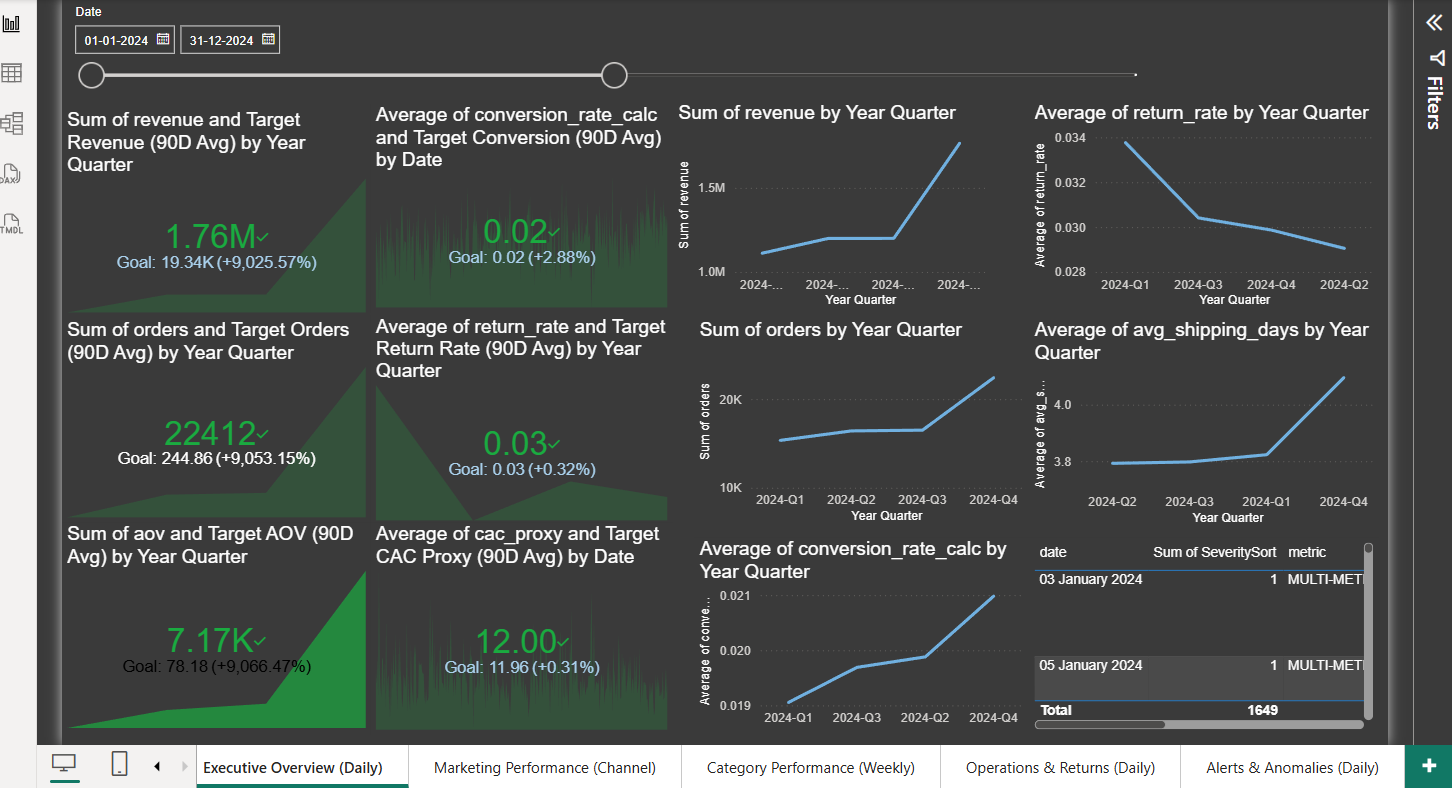

This screenshot's page, from the dashboard's own definition file:
{"tool":"powerbi","page":{"name":"Executive Overview (Daily)","canvas":[1280,720],"ordinal":0},"visuals":[{"type":"slicer","fields":{"Values":["DimDate2.Date"]},"box":[0,0,1058.6,105.7],"z":0},{"type":"kpi","fields":{"Indicator":["Sum(gold_daily_kpis.orders)"],"Goal":["DimDate2.Target Orders (30D Avg)"],"TrendLine":["DimDate2.Year Quarter"]},"box":[0,308.3,298.3,196.7],"z":1000},{"type":"kpi","fields":{"Indicator":["Sum(gold_daily_kpis.revenue)"],"Goal":["DimDate2.Target Revenue (90D Avg)"],"TrendLine":["DimDate2.Year Quarter"]},"box":[0,106.7,298.3,201.7],"z":2000},{"type":"kpi","fields":{"Indicator":["Sum(gold_daily_kpis.aov)"],"Goal":["DimDate2.Target AOV (90D Avg)"],"TrendLine":["DimDate2.Year Quarter"]},"box":[0,505,298.3,203.3],"z":3000},{"type":"kpi","fields":{"Indicator":["Avg(gold_daily_kpis.conversion_rate_calc)"],"Goal":["DimDate2.Target Conversion (30D Avg)"],"TrendLine":["DimDate2.Date"]},"box":[298.3,101.7,291.7,201.7],"z":4000},{"type":"kpi","fields":{"Goal":["DimDate2.Target Return Rate (30D Avg)"],"Indicator":["Avg(gold_daily_kpis.return_rate)"],"TrendLine":["DimDate2.Year Quarter"]},"box":[298.3,305,291.7,203.3],"z":5000},{"type":"kpi","fields":{"Indicator":["Avg(gold_daily_kpis.cac_proxy)"],"Goal":["DimDate2.Target CAC Proxy (30D Avg)"],"TrendLine":["DimDate2.Date"]},"box":[298.3,505,291.7,205],"z":6000},{"type":"lineChart","fields":{"Y":["Sum(gold_daily_kpis.revenue)"],"Category":["DimDate2.Year Quarter"]},"box":[590,98.3,310,203.3],"z":7000},{"type":"lineChart","fields":{"Y":["Sum(gold_daily_kpis.orders)"],"Category":["DimDate2.Year Quarter"]},"box":[610,308.3,323.3,201.7],"z":8000},{"type":"lineChart","fields":{"Category":["DimDate2.Year Quarter"],"Y":["Avg(gold_daily_kpis.conversion_rate_calc)"]},"box":[610,520,323.3,190],"z":9000},{"type":"lineChart","fields":{"Y":["Avg(gold_daily_kpis.return_rate)"],"Category":["DimDate2.Year Quarter"]},"box":[933.3,98.3,338.3,203.3],"z":10000},{"type":"lineChart","fields":{"Category":["DimDate2.Year Quarter"],"Y":["Avg(gold_daily_kpis.avg_shipping_days)"]},"box":[933.3,308.3,338.3,203.3],"z":11000},{"type":"tableEx","fields":{"Values":["alerts_daily_combined.date","Sum(alerts_daily_combined.SeveritySort)","alerts_daily_combined.metric","alerts_daily_combined.direction","alerts_daily_combined.method","alerts_daily_combined.evidence"]},"box":[933,520,338,190],"z":12000}]}

Visuals, with their boxes on the page's 1280x720 design canvas (x1, y1, x2, y2). These are canvas units, not pixel positions in the 1452x788 screenshot, which may show the page scaled, cropped or inside an application window:
slicer - DimDate2.Date: {"x1": 0, "y1": 0, "x2": 1059, "y2": 106}
kpi - Sum(gold_daily_kpis.orders) x DimDate2.Target Orders (30D Avg): {"x1": 0, "y1": 308, "x2": 298, "y2": 505}
kpi - Sum(gold_daily_kpis.revenue) x DimDate2.Target Revenue (90D Avg): {"x1": 0, "y1": 107, "x2": 298, "y2": 308}
kpi - Sum(gold_daily_kpis.aov) x DimDate2.Target AOV (90D Avg): {"x1": 0, "y1": 505, "x2": 298, "y2": 708}
kpi - Avg(gold_daily_kpis.conversion_rate_calc) x DimDate2.Target Conversion (30D Avg): {"x1": 298, "y1": 102, "x2": 590, "y2": 303}
kpi - DimDate2.Target Return Rate (30D Avg) x Avg(gold_daily_kpis.return_rate): {"x1": 298, "y1": 305, "x2": 590, "y2": 508}
kpi - Avg(gold_daily_kpis.cac_proxy) x DimDate2.Target CAC Proxy (30D Avg): {"x1": 298, "y1": 505, "x2": 590, "y2": 710}
lineChart - Sum(gold_daily_kpis.revenue) x DimDate2.Year Quarter: {"x1": 590, "y1": 98, "x2": 900, "y2": 302}
lineChart - Sum(gold_daily_kpis.orders) x DimDate2.Year Quarter: {"x1": 610, "y1": 308, "x2": 933, "y2": 510}
lineChart - DimDate2.Year Quarter x Avg(gold_daily_kpis.conversion_rate_calc): {"x1": 610, "y1": 520, "x2": 933, "y2": 710}
lineChart - Avg(gold_daily_kpis.return_rate) x DimDate2.Year Quarter: {"x1": 933, "y1": 98, "x2": 1272, "y2": 302}
lineChart - DimDate2.Year Quarter x Avg(gold_daily_kpis.avg_shipping_days): {"x1": 933, "y1": 308, "x2": 1272, "y2": 512}
tableEx - alerts_daily_combined.date x Sum(alerts_daily_combined.SeveritySort): {"x1": 933, "y1": 520, "x2": 1271, "y2": 710}
